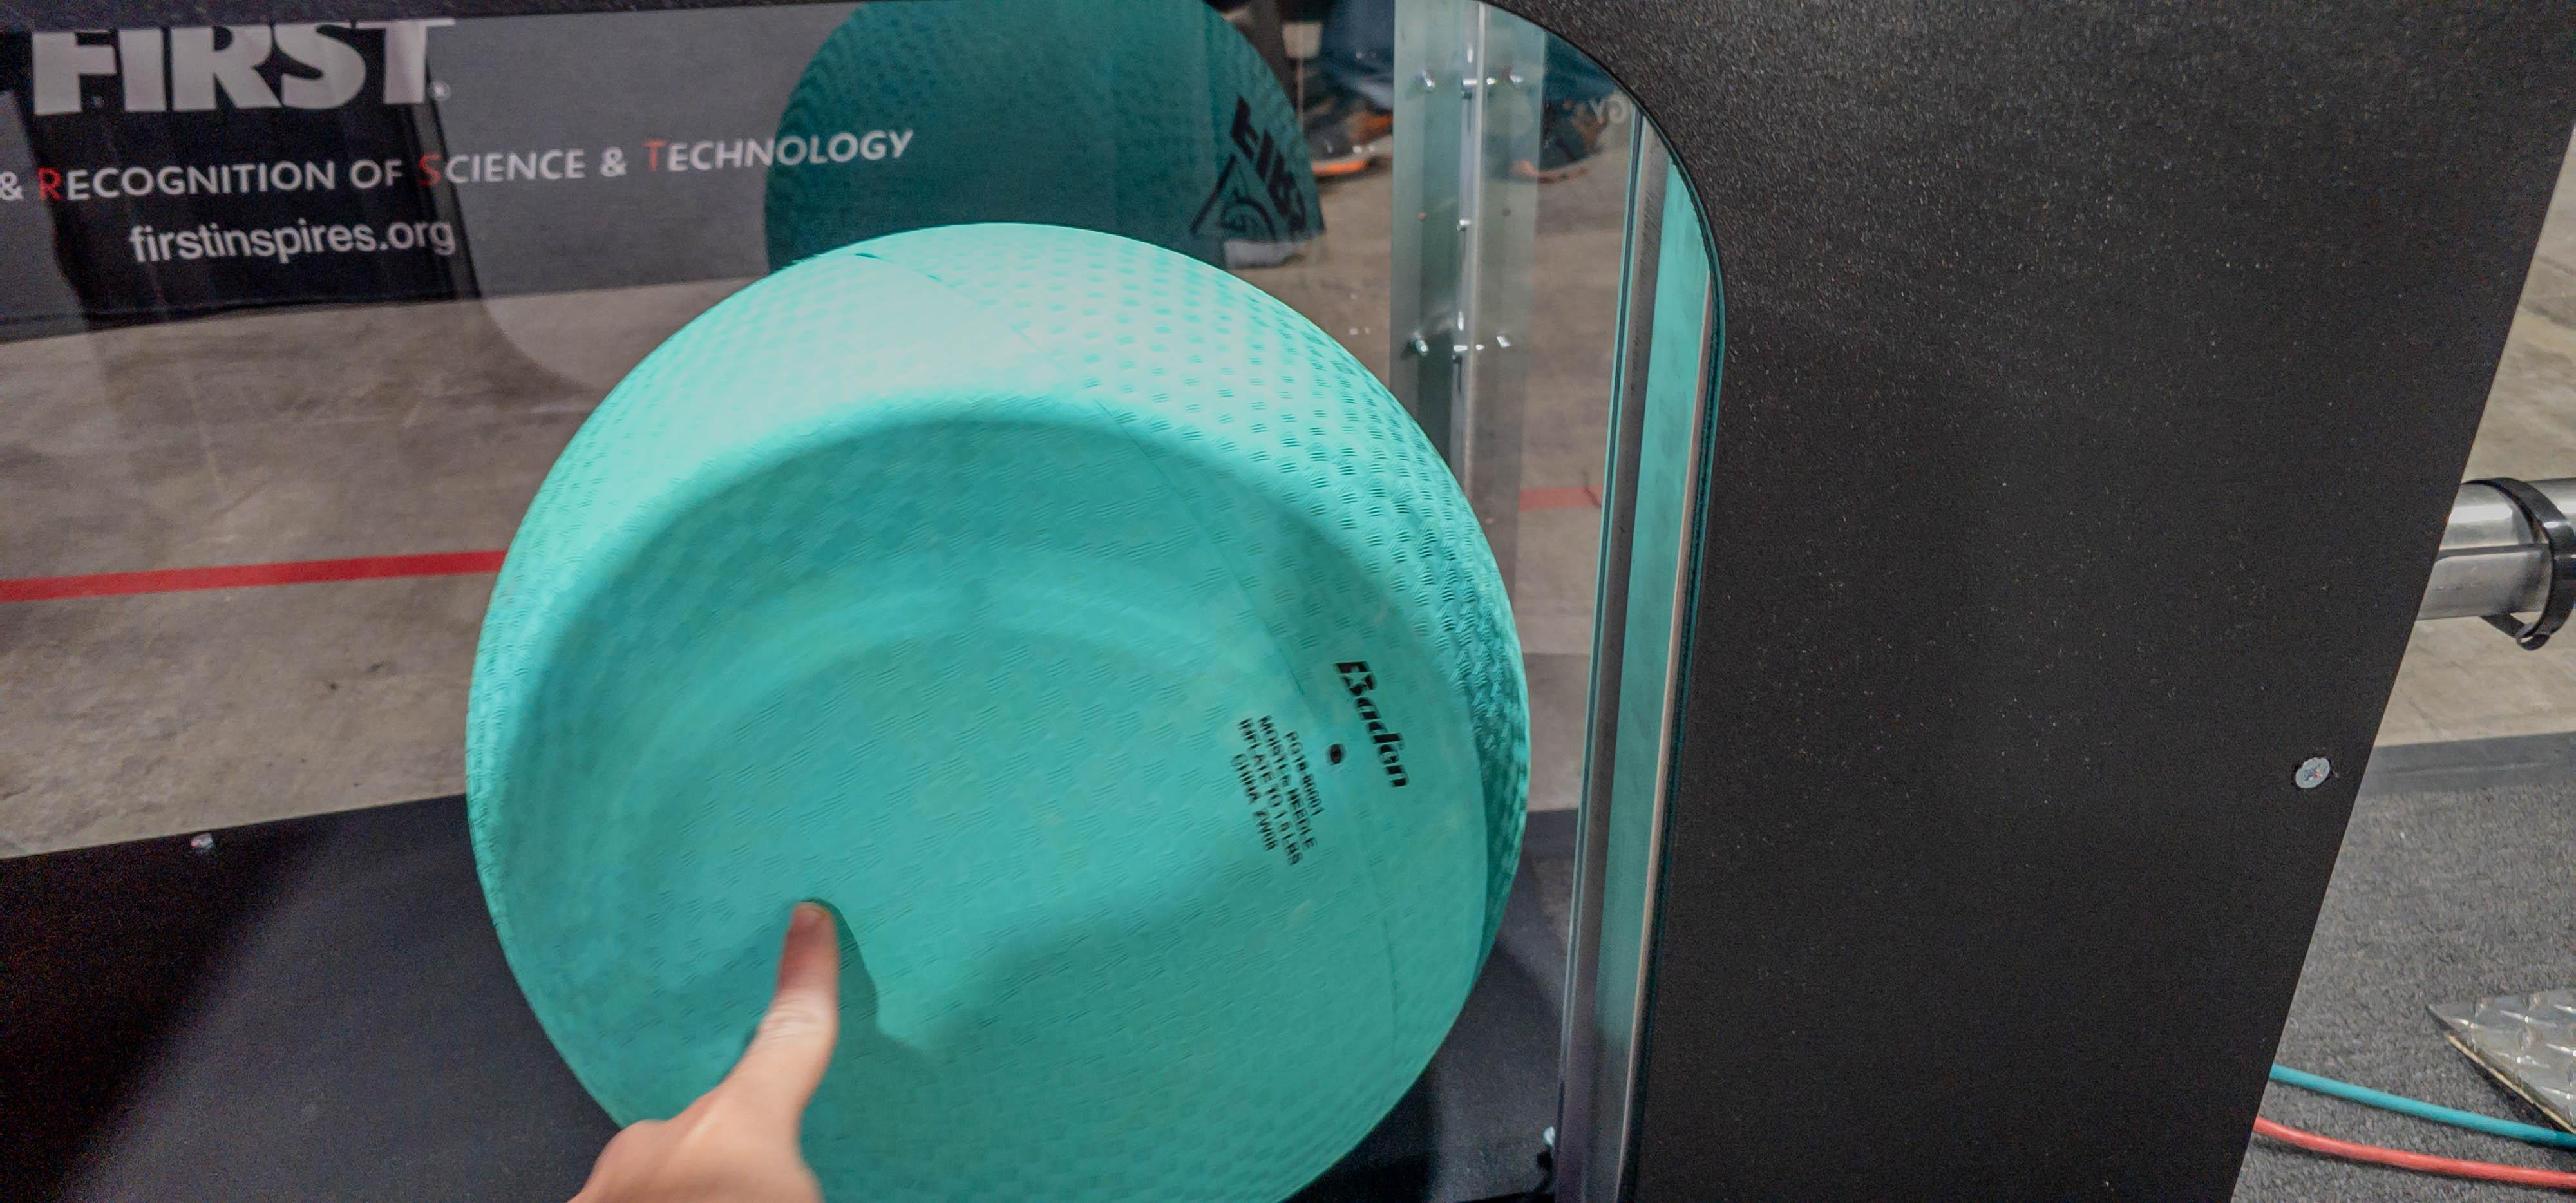ALGAE: (457, 225, 1536, 1203)
